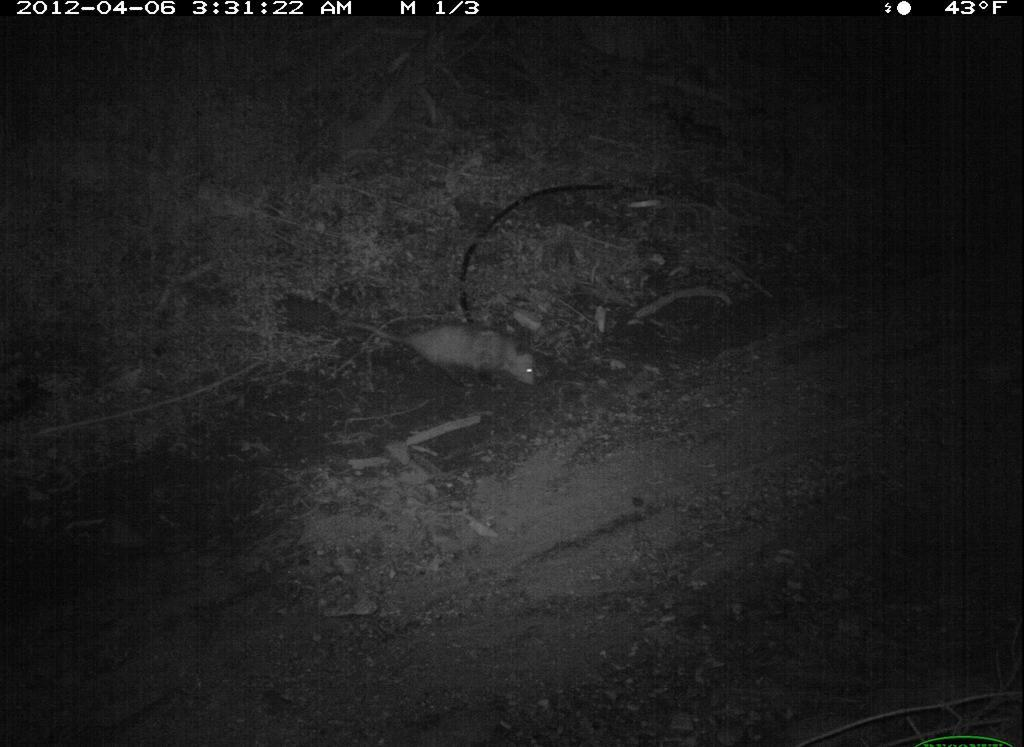opossum: (347, 301, 579, 396)
